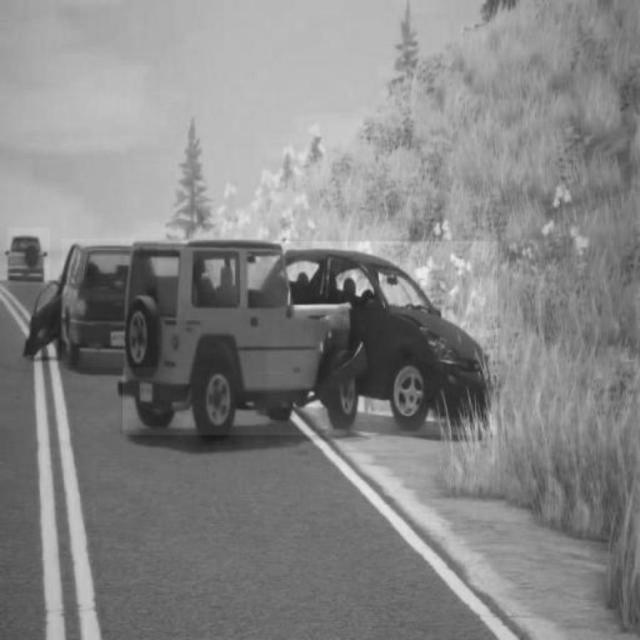accident: (123, 241, 498, 435)
vehicle: (62, 239, 158, 367), (8, 228, 50, 285)
